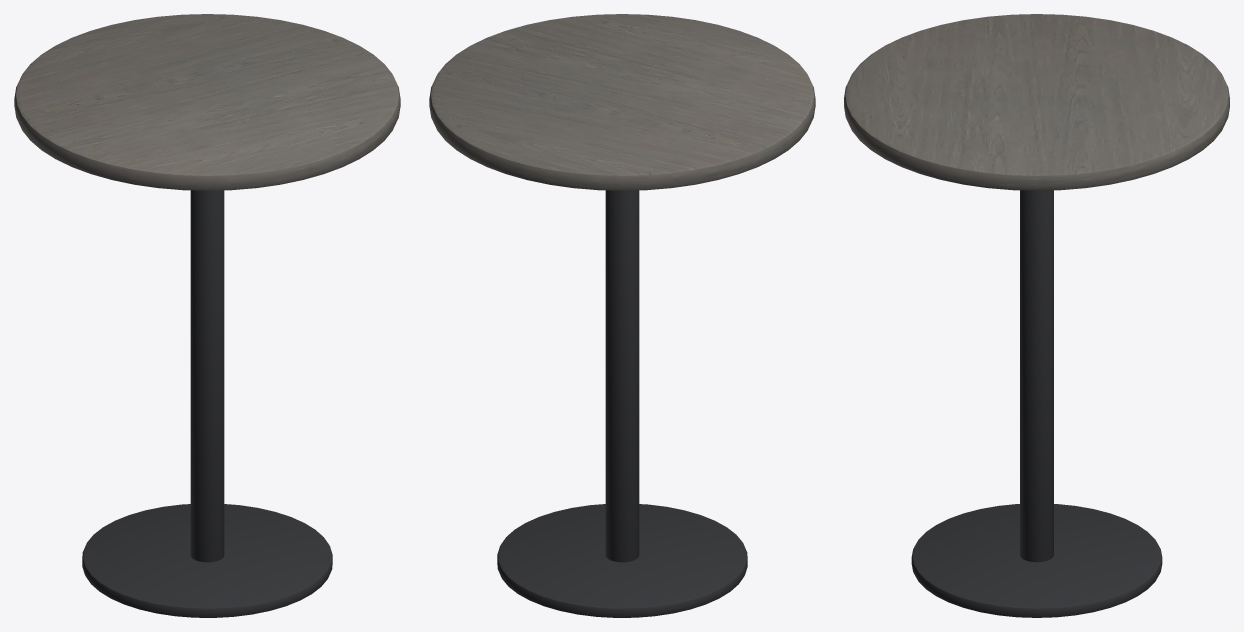
Rendered from tavolo-alto.glb.
3 renders of one model, left to right at view 1: azimuth 30°, elevation 25°; view 2: azimuth 150°, elevation 25°; view 3: azimuth 270°, elevation 25°, orthographic.
Visible parts, largest first — view 1: tavolo-alto; view 2: tavolo-alto; view 3: tavolo-alto.
Boxes of the visible parts, x1,y1,x2,y2 form: tavolo-alto: (14,14,400,617); tavolo-alto: (429,14,815,617); tavolo-alto: (844,14,1229,617).
Size of the model in its own units: 0.8 by 1.08 by 0.8.
Materials: 2 (1 with a texture image).
